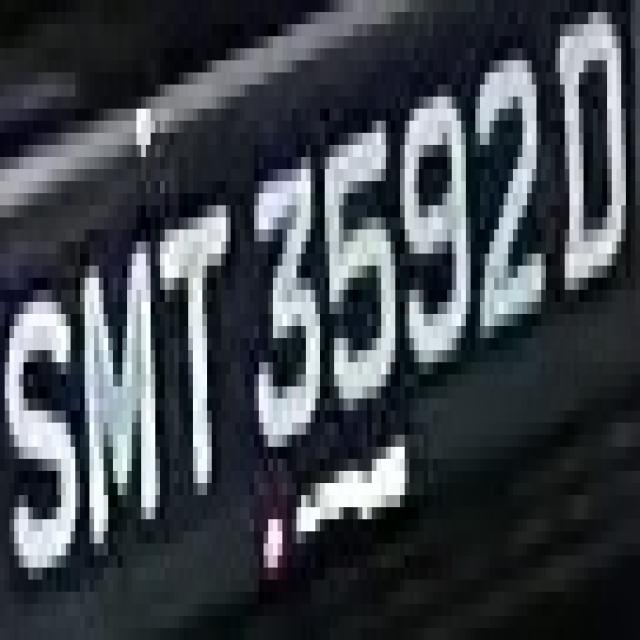2: (461, 37, 551, 374)
3: (226, 145, 325, 471)
5: (320, 109, 400, 471)
9: (381, 84, 480, 410)
D: (541, 12, 640, 302)
M: (70, 206, 164, 532)
S: (14, 253, 80, 616)
T: (146, 193, 249, 495)
